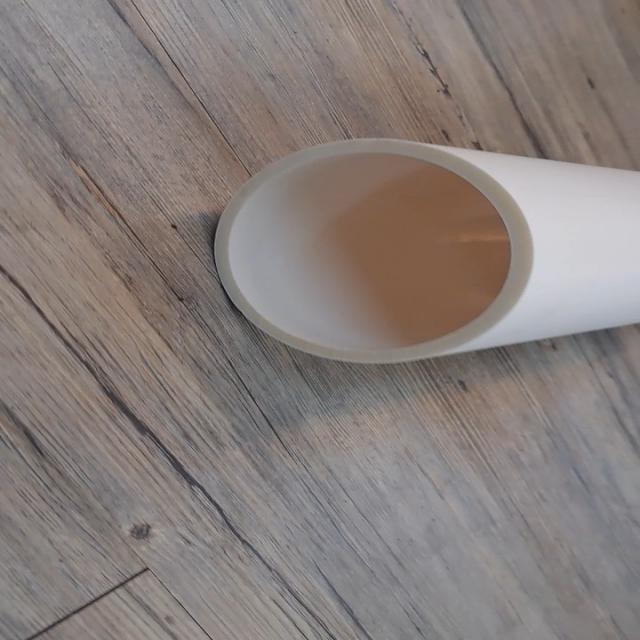CORAL: (202, 136, 640, 366)
